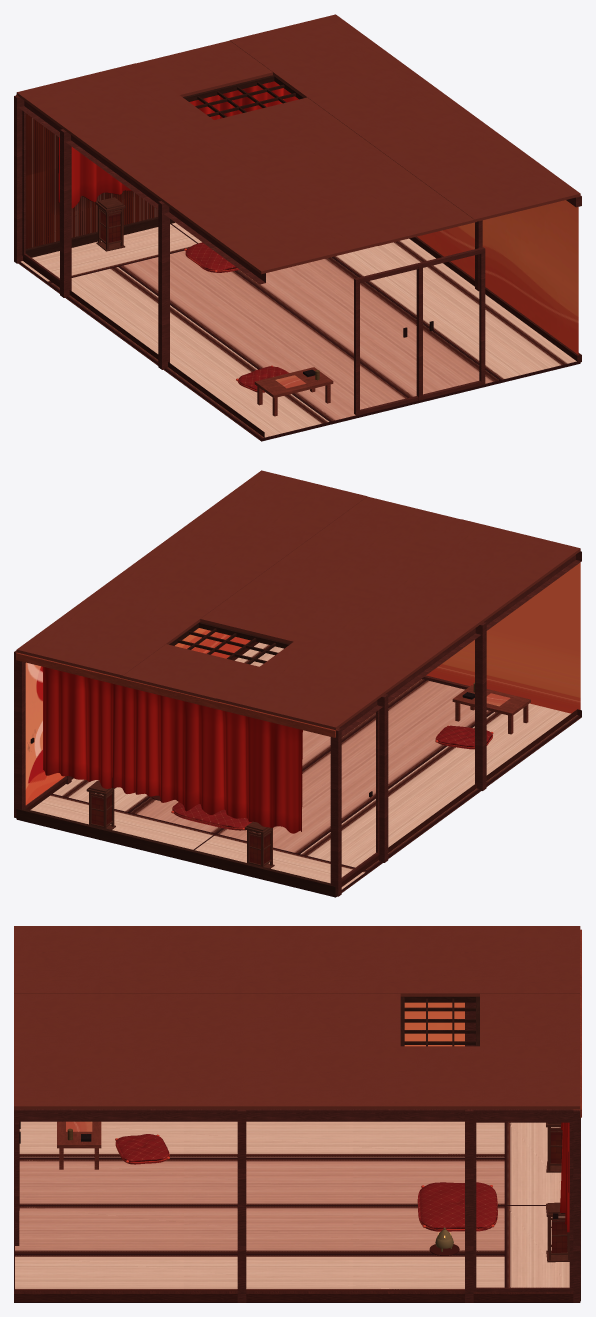
Rendered from haunted-mansion-room-1.glb.
3 views of the same model, one above another, from view 1: azimuth 30°, elevation 25°; view 2: azimuth 150°, elevation 25°; view 3: azimuth 270°, elevation 25° (orthographic). The views are drawn at different scales.
Size of the model in its own units: 4.92 by 2.46 by 6.45.
41 materials, 33 textured.
